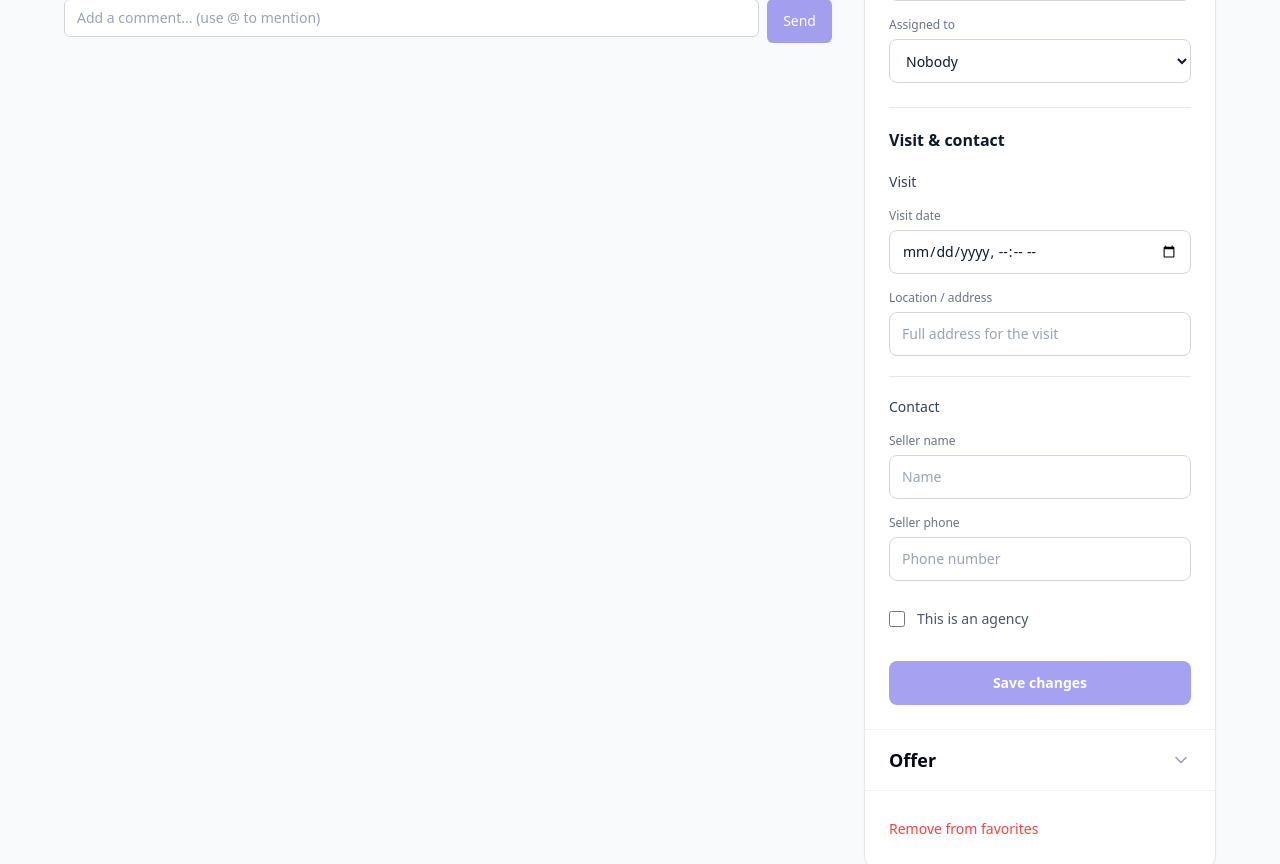
Test: starts collapsed between contact controls and remove from favorites
(page scrolled)
Expected: the field labelled "Offer made (€ FAI)" is not shown
Step 1. Click the button "Offer" → x=913, y=760, box [865,730,1215,790]
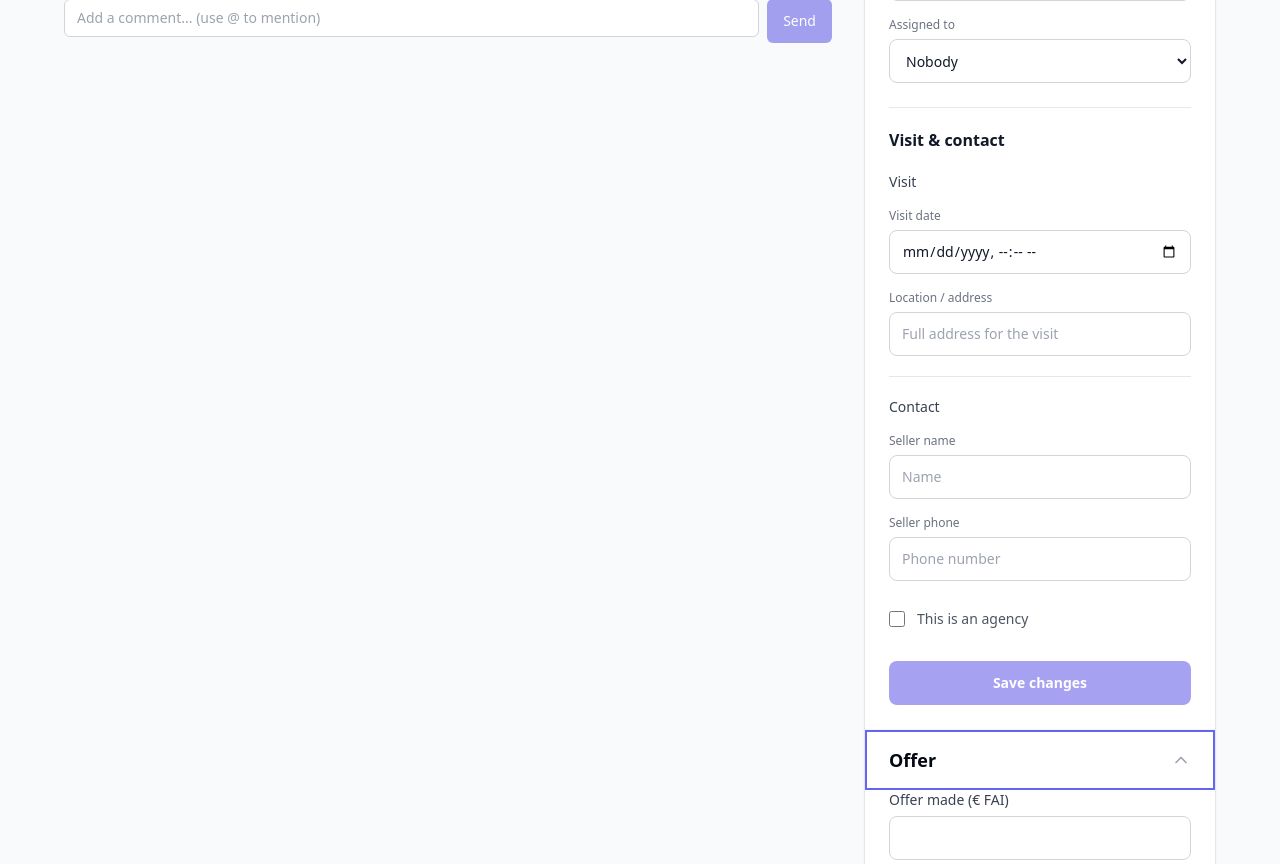
Now the number field labelled "Offer made (€ FAI)" is shown, box [889,816,1191,860]
